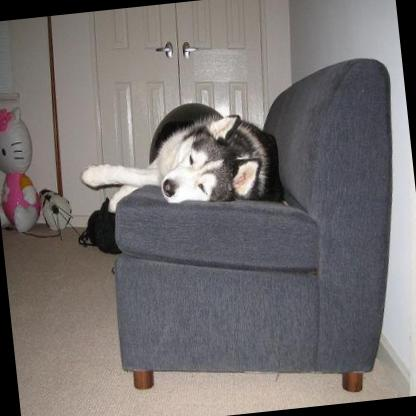Eskimo_dog: (74, 104, 282, 220)
